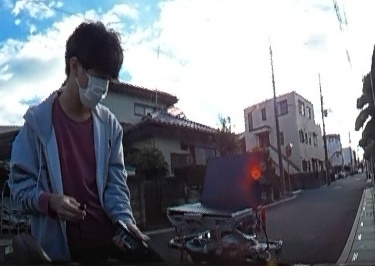person: (11, 25, 130, 266)
